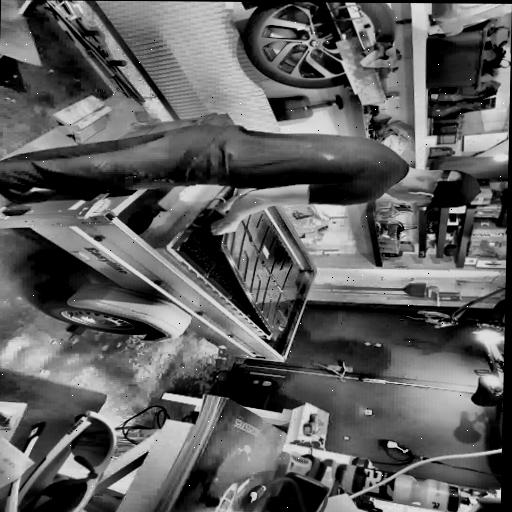b_casing: (222, 184, 302, 342)
